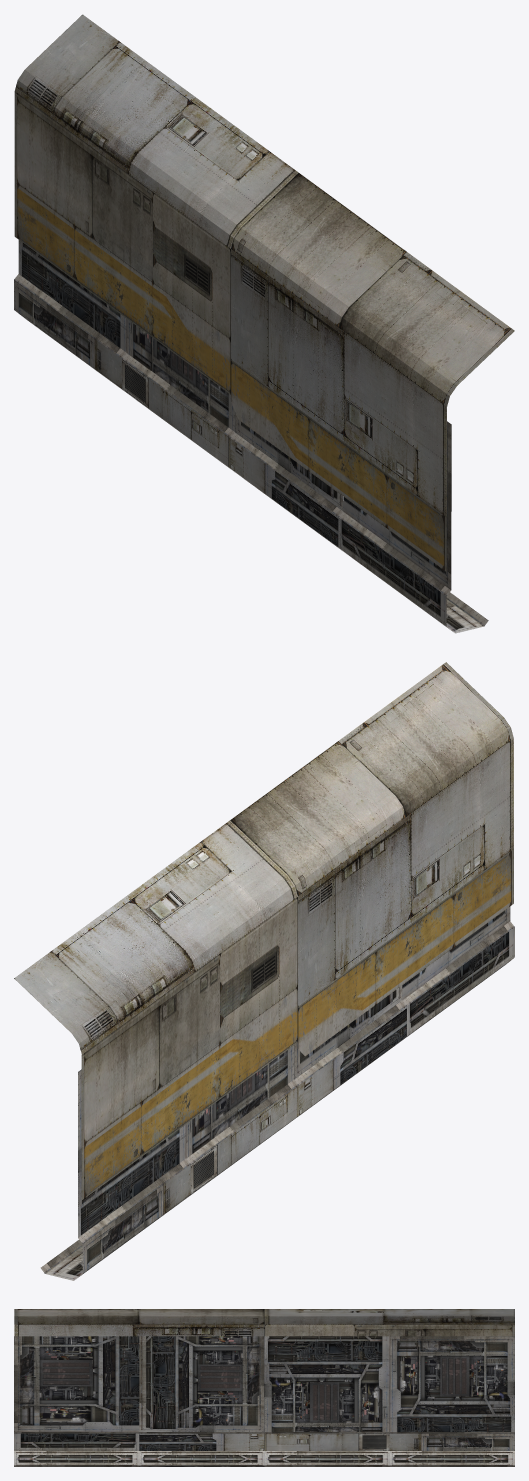
The model's file is STR_BigWall_B.FBX.
The picture shows the model from 3 angles, top to bottom: view 1: azimuth 30°, elevation 25°; view 2: azimuth 150°, elevation 25°; view 3: azimuth 270°, elevation 25°; orthographic projection. The views are drawn at different scales.
Visible parts, largest first — view 1: STR_BigWall_B; view 2: STR_BigWall_B; view 3: STR_BigWall_B.
Part boxes in pixels (x1=…): STR_BigWall_B: x1=14, y1=14, x2=514, y2=633; STR_BigWall_B: x1=14, y1=662, x2=514, y2=1280; STR_BigWall_B: x1=14, y1=1309, x2=514, y2=1466.
Size of the model in its own units: 183 by 734 by 2000.
1 material, 1 textured.
